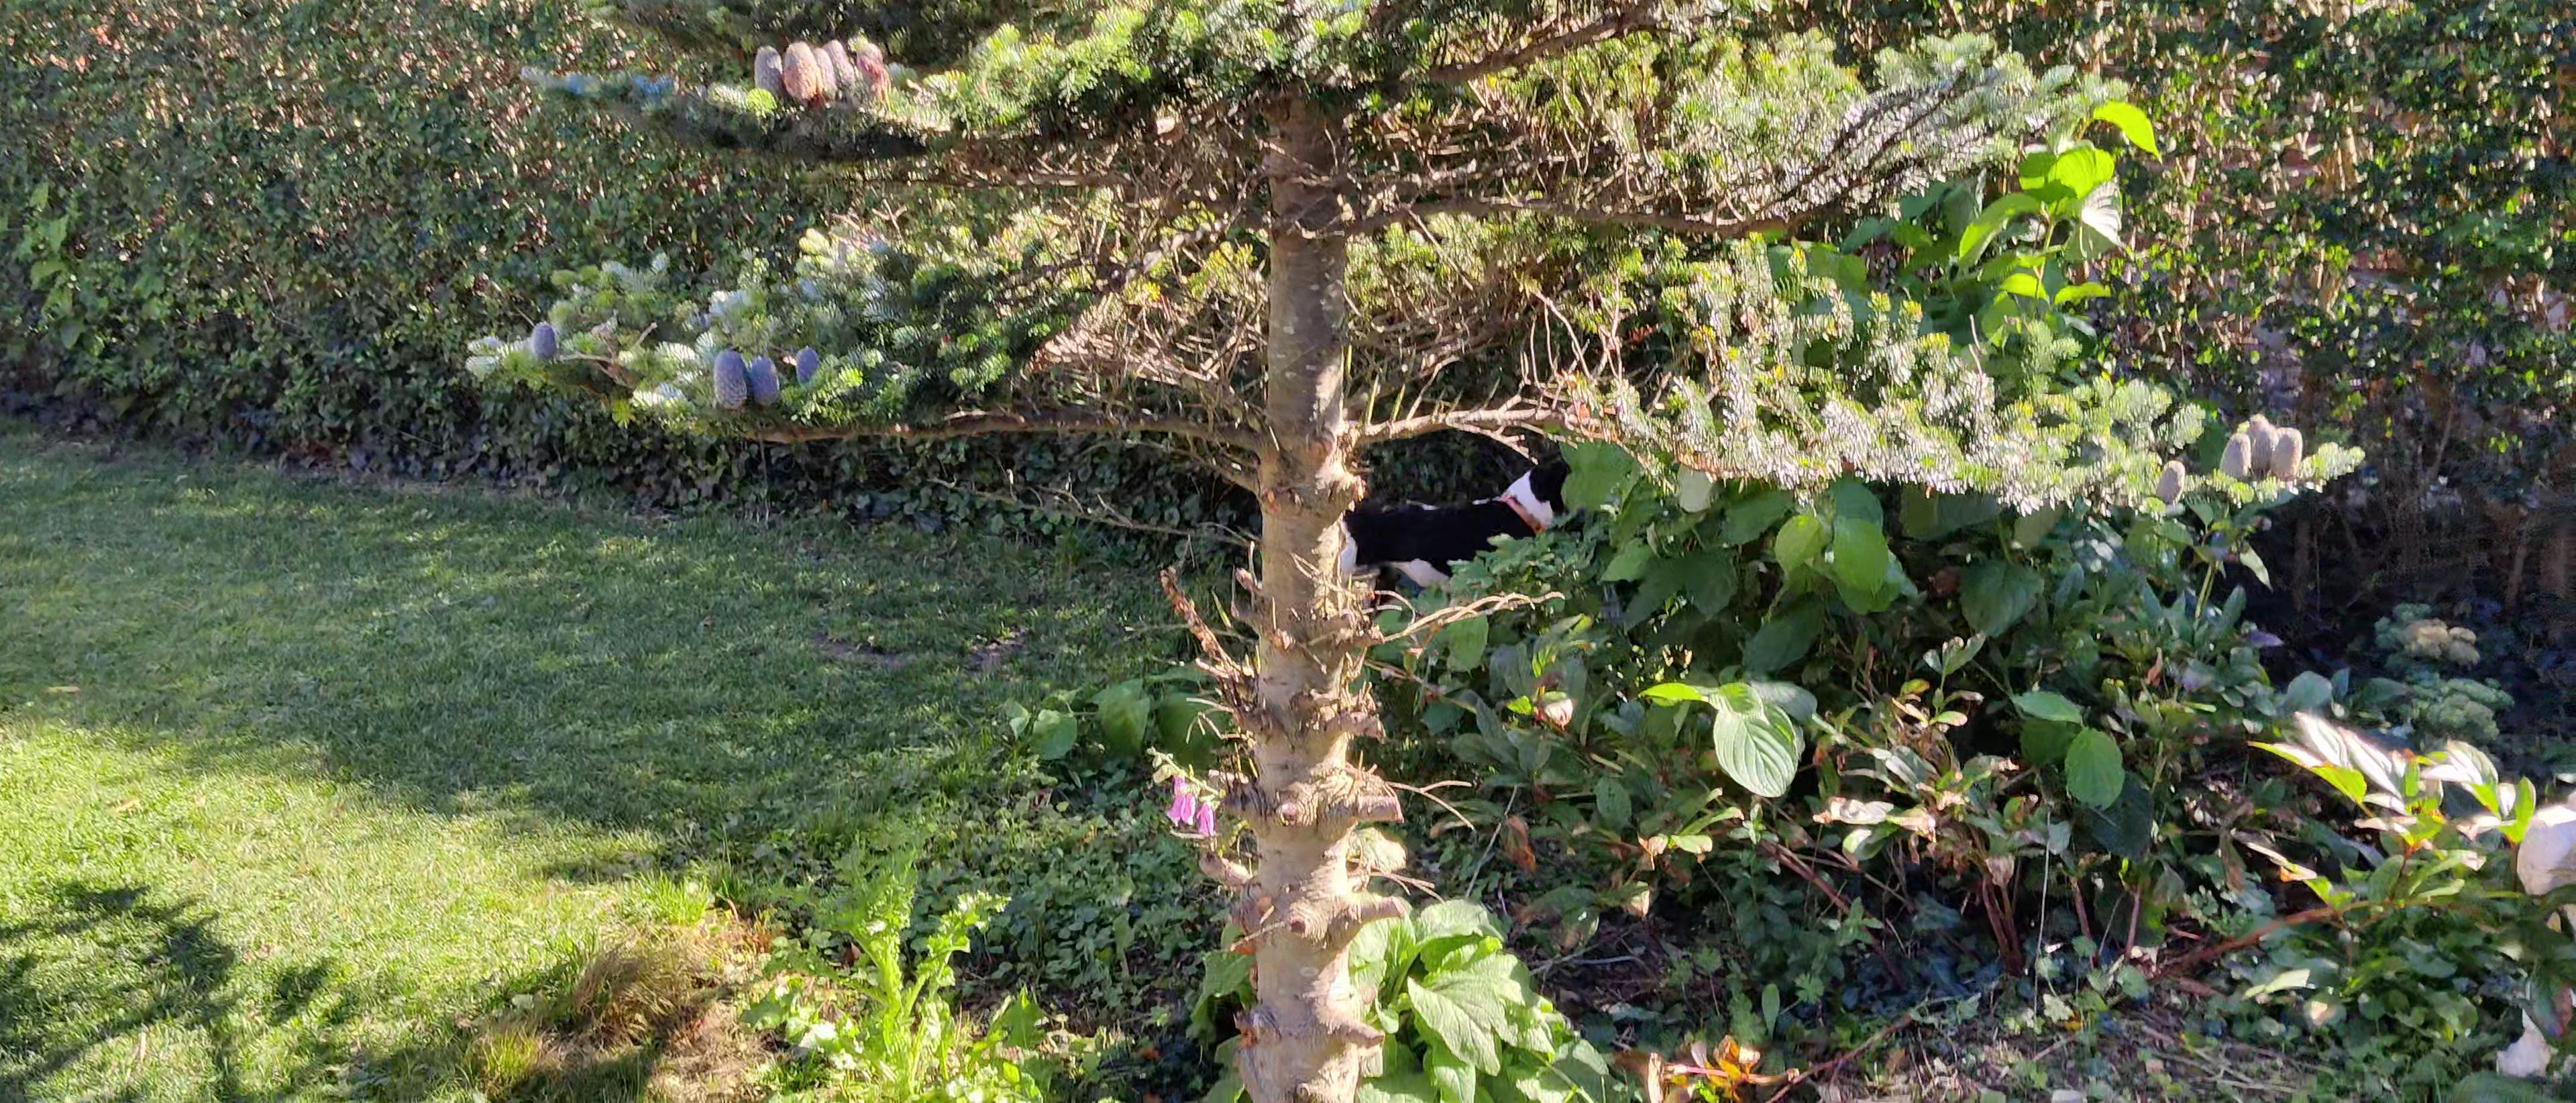Dog: (1345, 454, 1579, 593)
